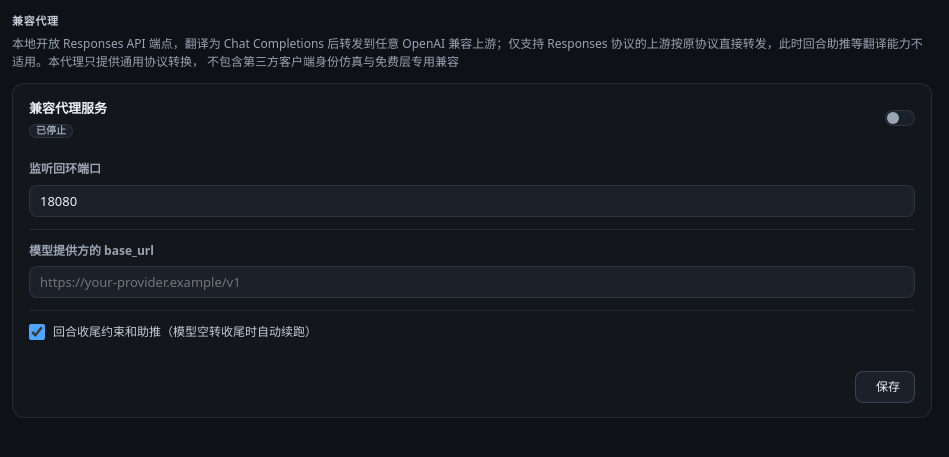
Scenario: CompatProxySection › 端口非法时提示错误
Replace the text in the number field with "80": (472, 201) top-left (29, 185), bottom-right (915, 217)
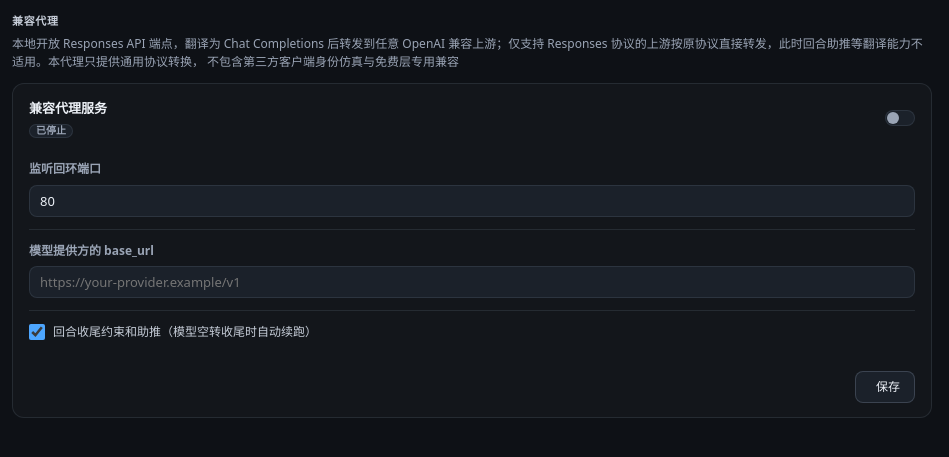
Click the button "保存": (885, 387) top-left (855, 371), bottom-right (915, 403)
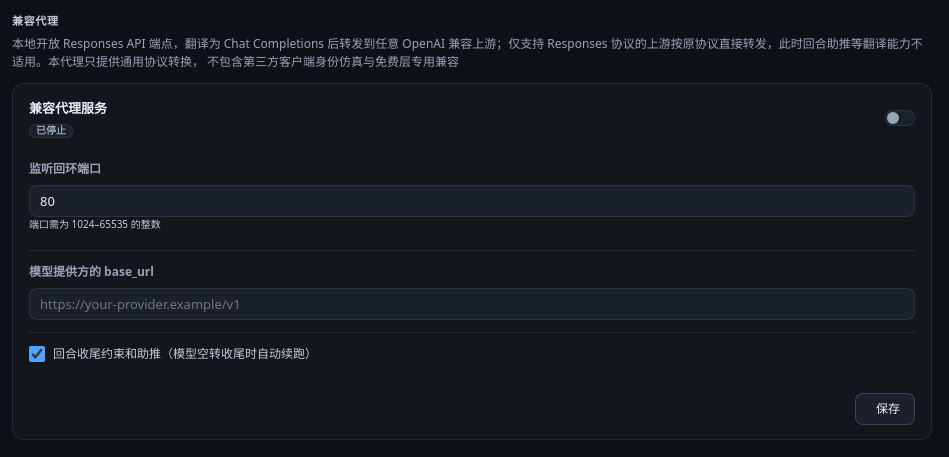
Check: the text "端口需为 1024–65535 的整数" is shown, box top-left (29, 217), bottom-right (161, 231)
